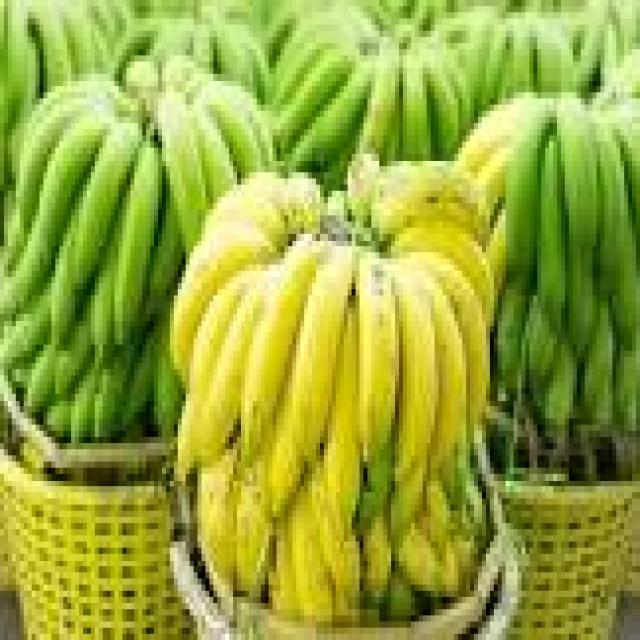banana: (0, 111, 106, 313), (241, 234, 323, 461), (170, 222, 276, 381), (178, 271, 256, 480), (289, 247, 355, 467), (198, 271, 272, 461), (392, 265, 442, 541), (16, 81, 110, 227), (415, 253, 489, 424), (72, 124, 142, 289), (415, 271, 470, 473), (558, 99, 600, 356), (392, 222, 493, 326), (372, 161, 489, 246), (597, 117, 639, 344), (320, 308, 363, 529), (115, 142, 161, 344), (356, 253, 399, 467), (186, 271, 256, 400), (289, 62, 371, 172), (506, 99, 553, 283), (159, 93, 209, 252), (309, 468, 359, 621), (277, 50, 355, 147), (0, 0, 39, 184), (206, 173, 292, 252), (289, 487, 335, 621), (538, 136, 568, 332), (455, 99, 533, 172), (202, 81, 260, 178), (265, 382, 304, 523), (356, 37, 402, 153), (198, 450, 237, 584), (269, 31, 335, 110), (87, 216, 122, 363), (147, 185, 185, 313), (238, 462, 272, 596), (0, 0, 31, 141), (459, 19, 501, 123), (0, 290, 51, 375), (28, 0, 75, 92), (423, 50, 462, 160), (581, 302, 616, 424), (194, 105, 237, 203), (151, 321, 185, 443), (522, 296, 560, 400), (52, 216, 82, 344), (95, 345, 134, 443), (494, 284, 529, 393), (400, 50, 434, 160), (123, 333, 161, 430), (356, 437, 395, 529), (613, 111, 639, 240), (396, 524, 442, 596), (360, 511, 395, 603), (439, 50, 474, 141), (542, 339, 576, 430), (234, 93, 276, 166), (534, 19, 576, 92), (269, 517, 300, 615), (388, 462, 426, 541), (210, 19, 252, 86), (60, 0, 98, 73), (56, 321, 94, 393), (475, 148, 509, 227), (423, 468, 454, 553), (479, 25, 509, 110), (502, 19, 533, 98), (24, 345, 55, 418), (613, 345, 639, 430), (384, 567, 418, 621), (486, 210, 505, 295), (44, 401, 71, 443)
